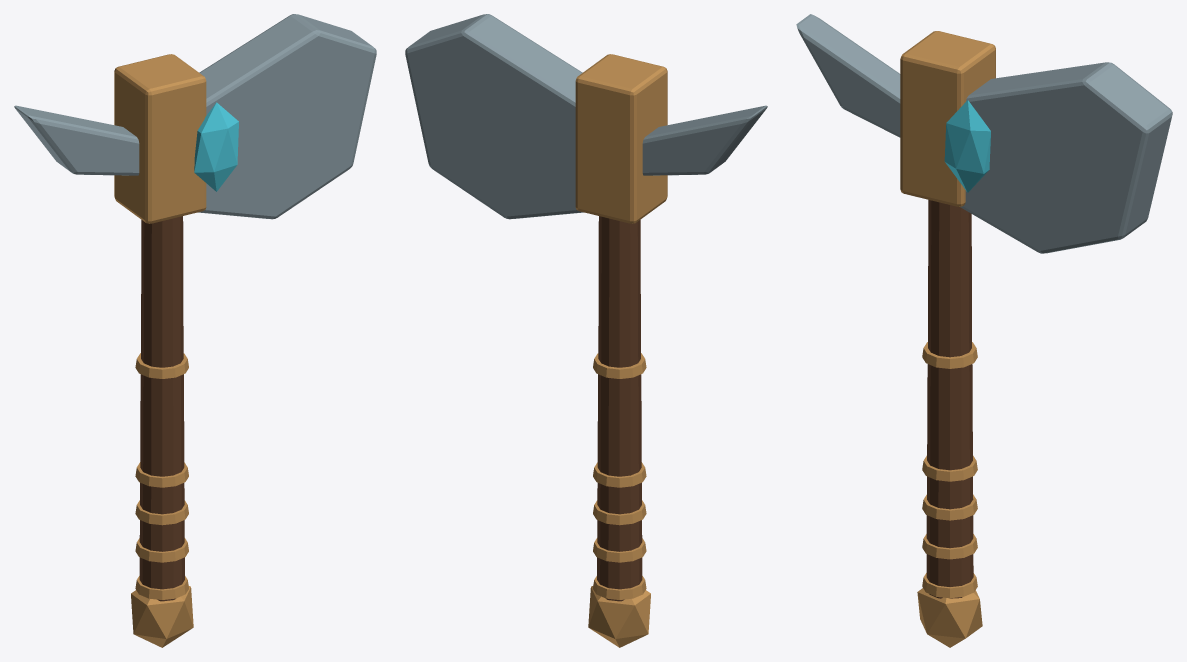
The model's file is Axe.fbx.
The picture shows the model from 3 angles, left to right: view 1: azimuth 30°, elevation 25°; view 2: azimuth 150°, elevation 25°; view 3: azimuth 330°, elevation 25°; orthographic projection. The views are drawn at different scales.
Parts seen in each view (by area): view 1: Arsenal_Axe; view 2: Arsenal_Axe; view 3: Arsenal_Axe.
Part boxes in pixels (x1,y1,x2,y2): Arsenal_Axe: (14, 14, 376, 647); Arsenal_Axe: (405, 14, 767, 647); Arsenal_Axe: (796, 14, 1172, 647).
Bounding box in the file's own units: 96.21 × 158 × 19.63.
